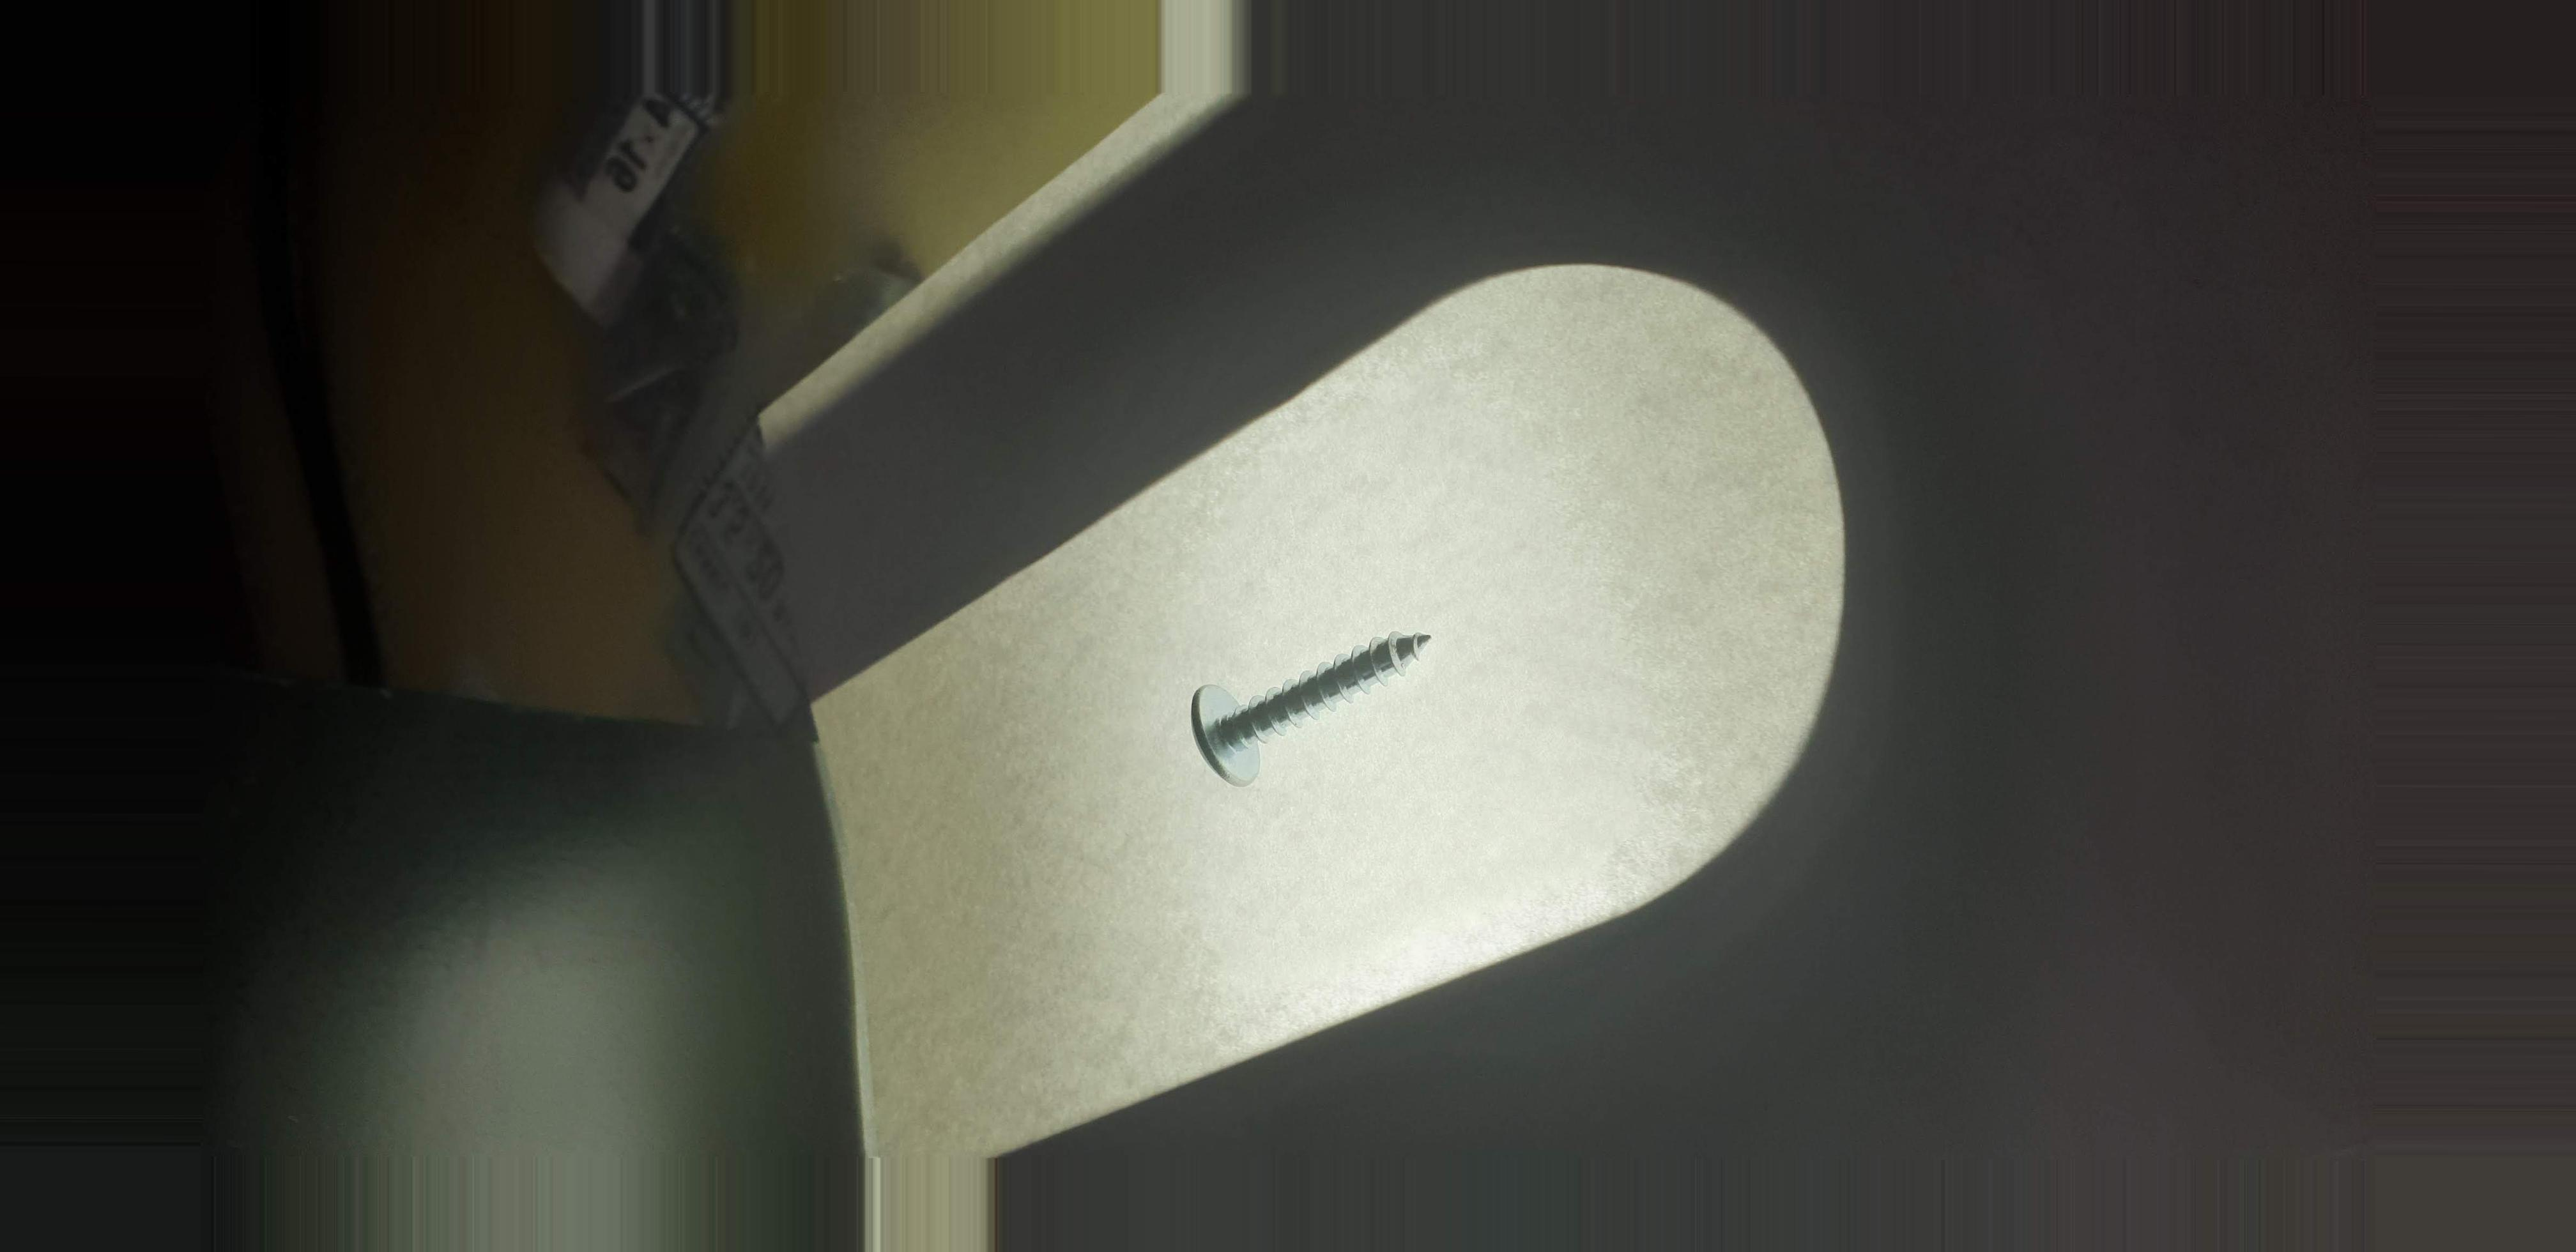S002: (1161, 605, 1474, 807)
